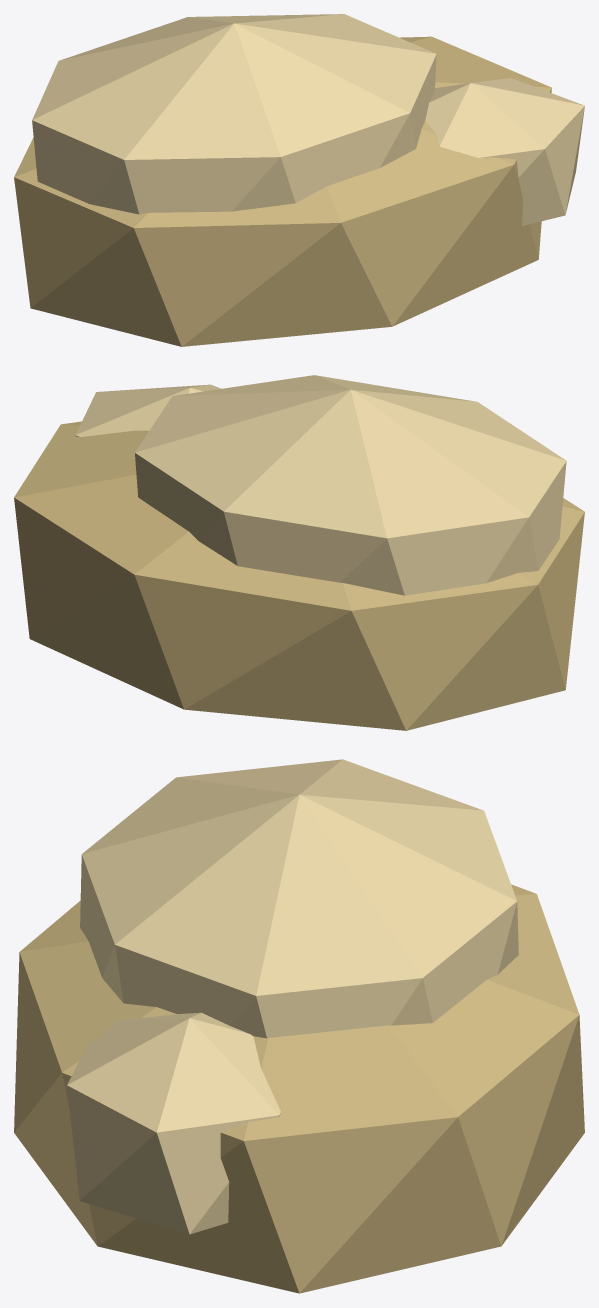
The model's file is drop_dough.glb.
3 renders of one model, top to bottom at view 1: azimuth 30°, elevation 25°; view 2: azimuth 150°, elevation 25°; view 3: azimuth 270°, elevation 25°, orthographic. The views are drawn at different scales.
Visible parts, largest first — view 1: drop_dough; view 2: drop_dough; view 3: drop_dough.
Part boxes in pixels (x1,y1,x2,y2): drop_dough: (14,14,584,346); drop_dough: (14,375,584,730); drop_dough: (14,759,584,1293).
Bounding box in the file's own units: 0.2078 × 0.115 × 0.1559.
